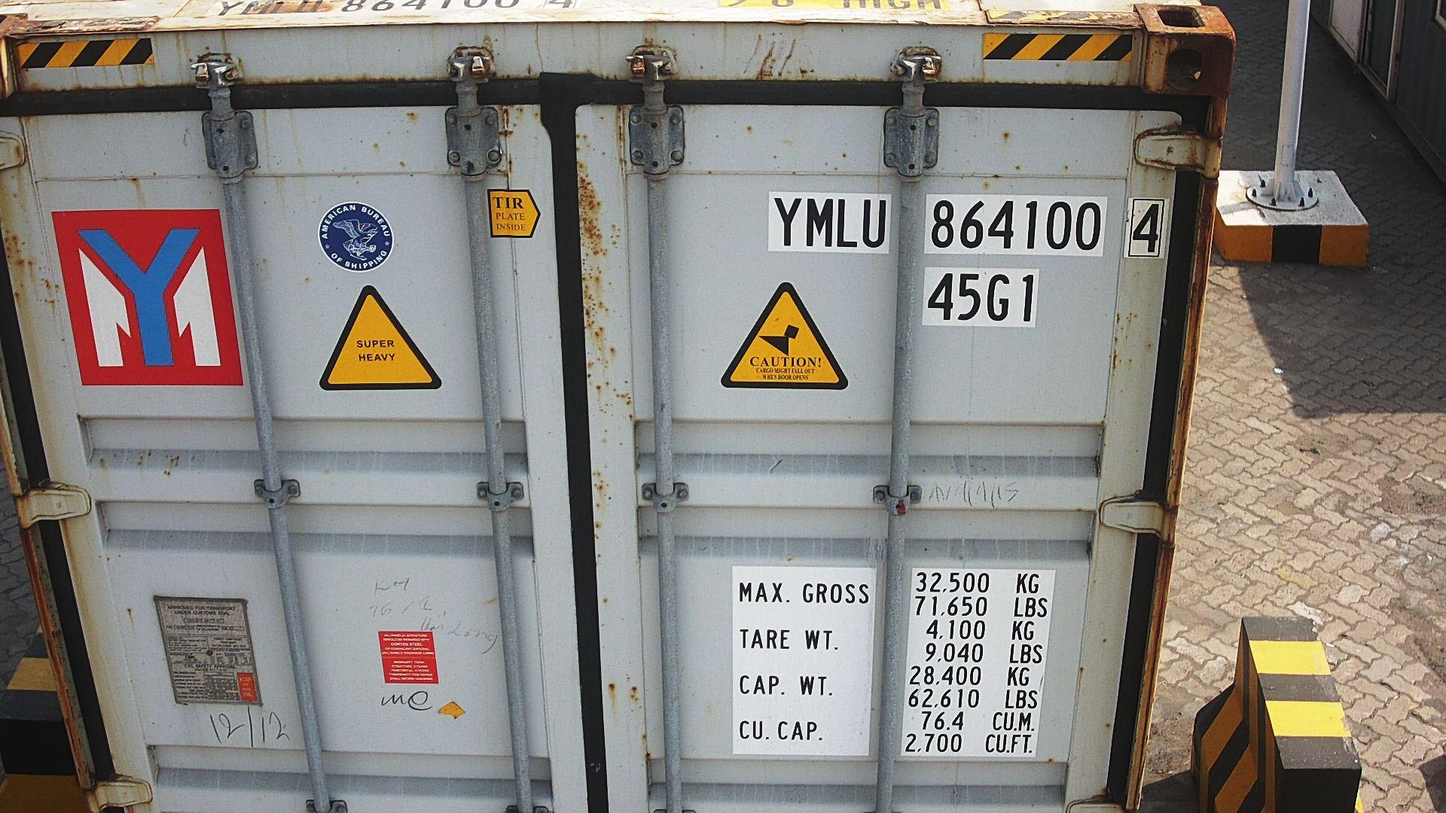container-numbers: (764, 190, 1173, 261), (921, 267, 1045, 329)
